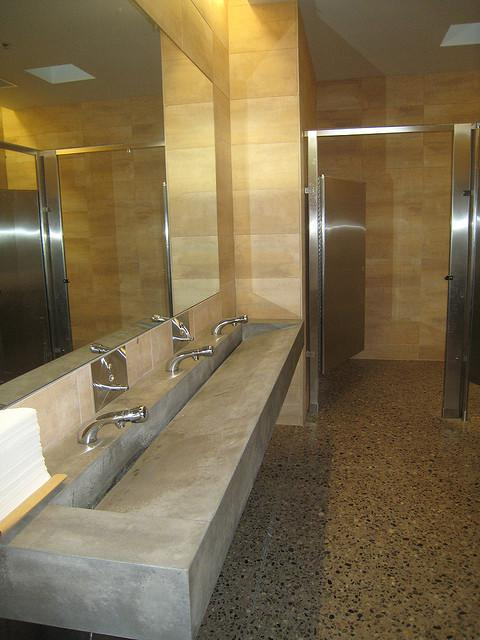Lavamanos: (34, 408, 248, 546), (148, 342, 282, 410), (208, 302, 302, 342)
